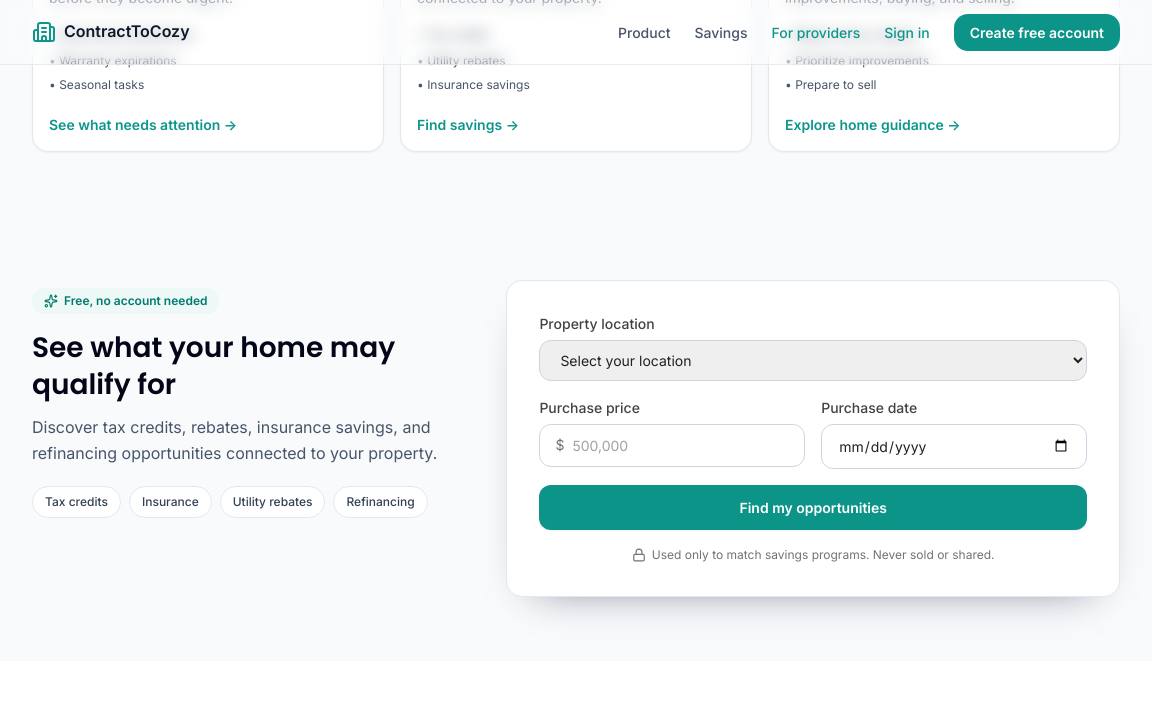
Test: homepage narrative › keeps the savings form labeled and shows an illustrative result
(page scrolled)
Select "Brooklyn, NY" in the dropdown labelled "Property location": (813, 360) [539, 340, 1087, 381]
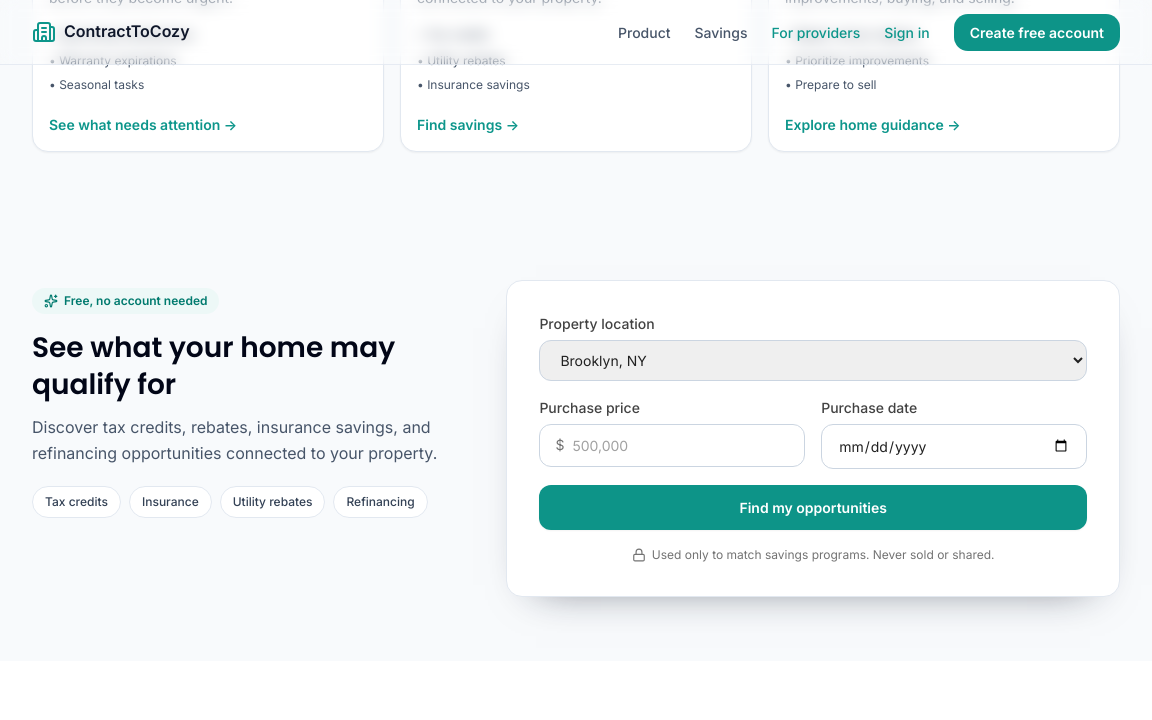
In the field labelled "Purchase price": (672, 445) [539, 424, 805, 467], type "500000"
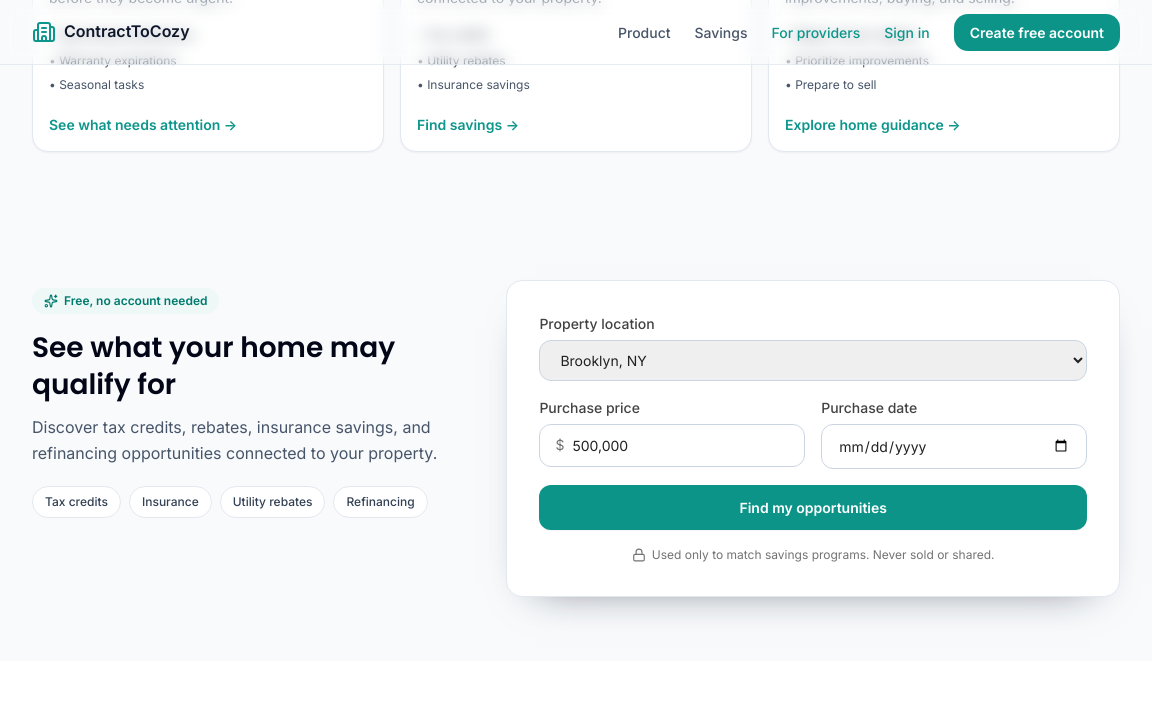
In the date field labelled "Purchase date": (954, 446) [821, 424, 1087, 469], type "2024-05-01"
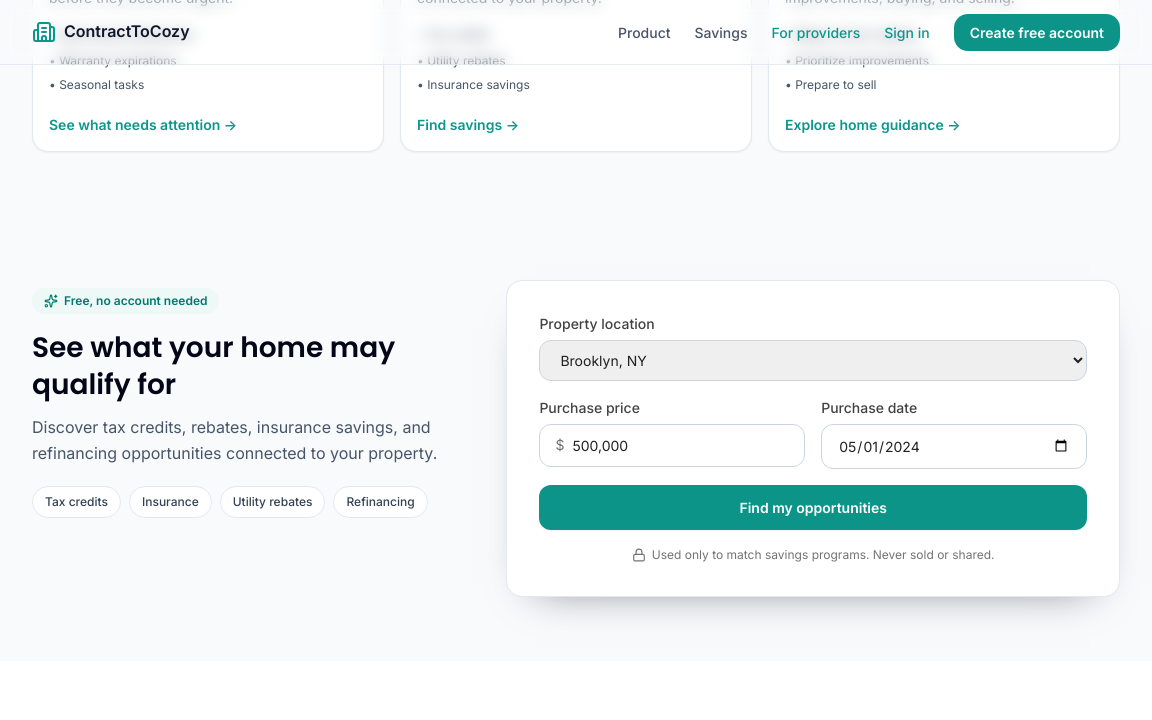
Click the button "Find my opportunities": click(813, 507) [539, 485, 1087, 530]
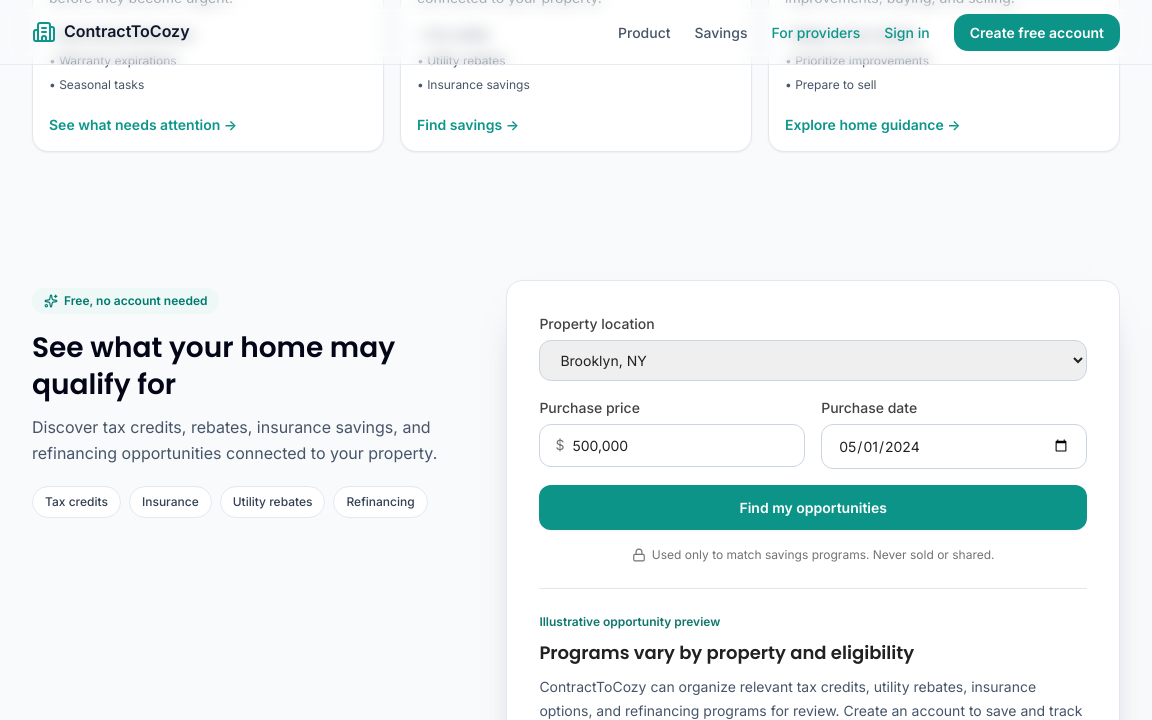
Result: the text "Illustrative opportunity preview" is shown at [539, 614, 720, 629]
